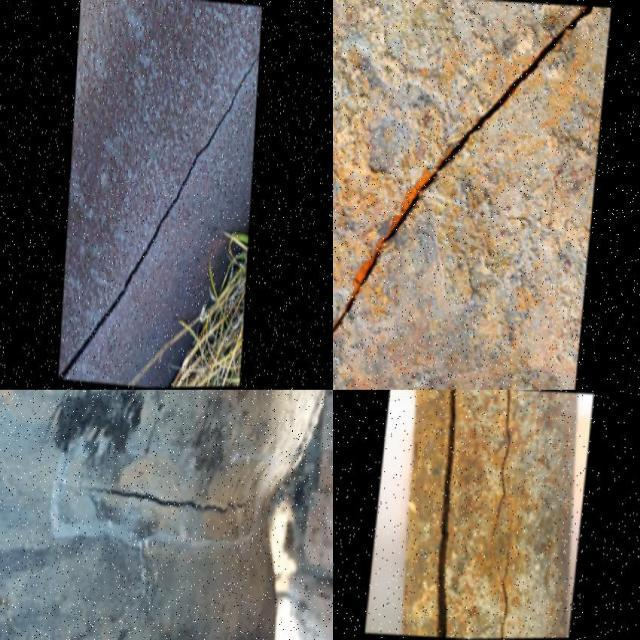crack: (332, 5, 606, 352), (61, 48, 257, 379), (425, 391, 479, 639), (74, 476, 262, 520), (484, 391, 516, 548), (494, 521, 527, 639)
